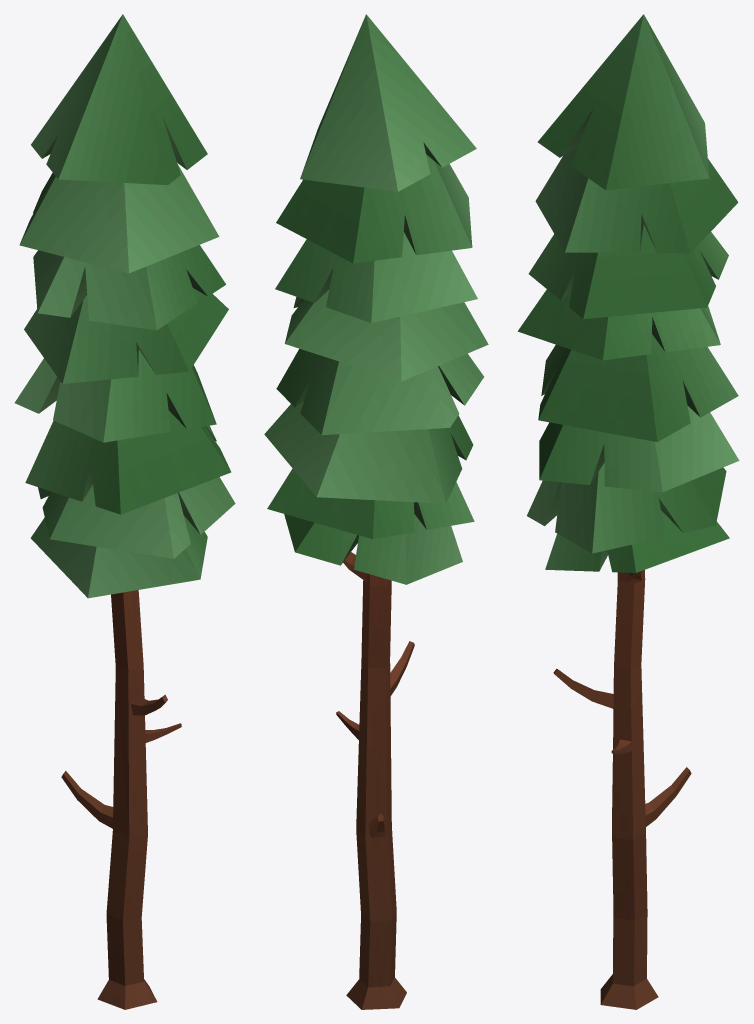
The model's file is pinheiro.glb.
3 renders of one model, left to right at view 1: azimuth 30°, elevation 25°; view 2: azimuth 150°, elevation 25°; view 3: azimuth 270°, elevation 25°, orthographic.
Visible parts, largest first — view 1: PineVariantAMatureB; view 2: PineVariantAMatureB; view 3: PineVariantAMatureB.
Boxes of the visible parts, <box> form: PineVariantAMatureB: <box>14,14,235,1009</box>; PineVariantAMatureB: <box>264,14,488,1009</box>; PineVariantAMatureB: <box>517,14,739,1009</box>.
Size of the model in its own units: 2.72 by 12.99 by 2.65.
Materials: 1 (1 with a texture image).
